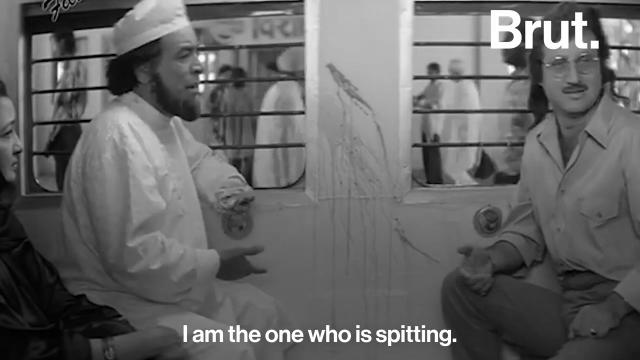spit: (315, 55, 399, 269)
